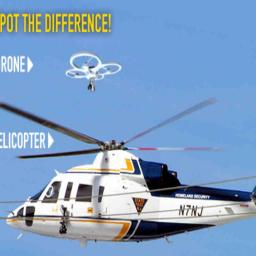helicopter: (4, 93, 256, 252)
